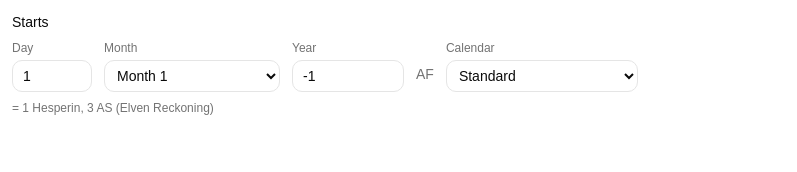
it: DateEditor › allows the leap day only in a leap year
This screenshot has width=797, height=172.
Select "Elven Reckoning" in the dropdown labelled "Calendar": x=542, y=76 [446,60,638,92]
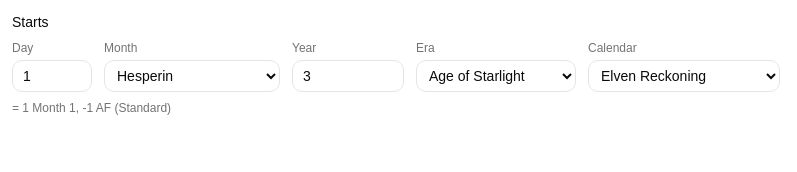
Now the dropdown labelled "Month" shows "Hesperin", box [104,60,280,92]
Replace the text in the number field labelled "Day" with "41": x=52, y=76 [12,60,92,92]
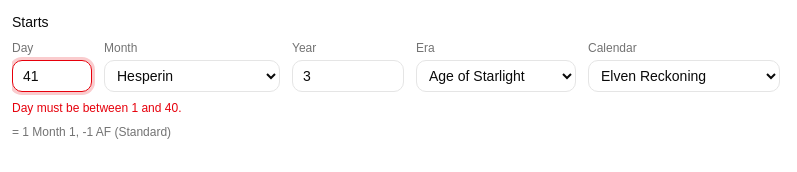
Now the text "Day must be between 1 and 40." is shown, box [12,101,182,115]
Note: Year 4 is a leap year: day 41 exists and is committed.
Replace the text in the number field labelled "Year" with "4": x=348, y=76 [292,60,404,92]
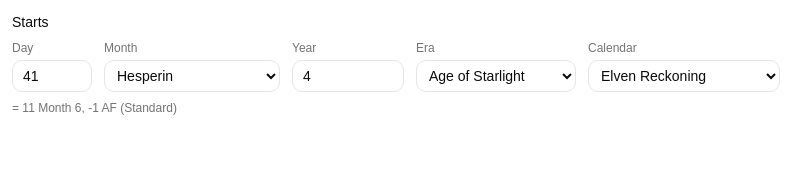
Now the text "Day must be between" is gone
